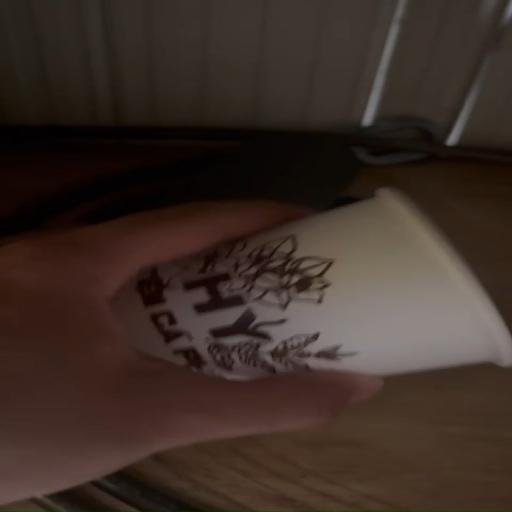Ly_giay: (114, 189, 511, 380)
